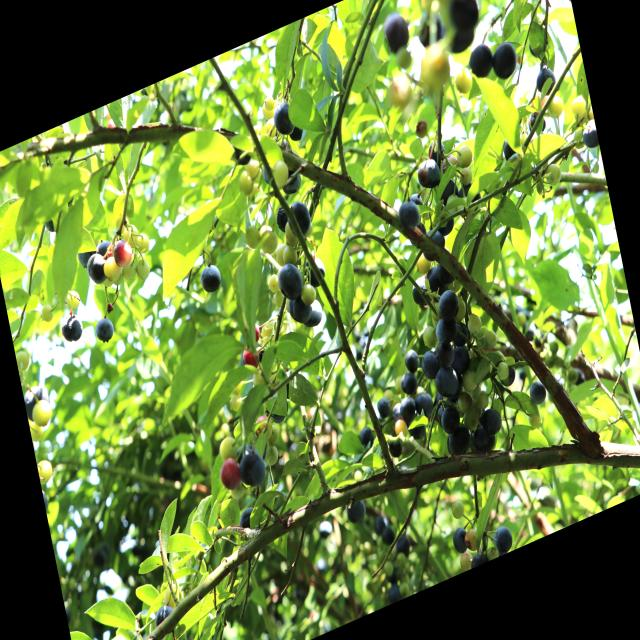blueberry: (414, 5, 448, 50), (282, 286, 318, 328), (488, 38, 520, 84), (273, 258, 305, 304), (238, 447, 269, 493), (380, 11, 411, 56), (442, 20, 478, 58), (22, 377, 52, 422), (418, 223, 449, 264), (432, 360, 462, 401), (445, 0, 480, 35), (454, 179, 483, 220), (269, 95, 296, 139), (397, 192, 424, 235), (466, 40, 495, 80), (57, 306, 86, 346), (285, 198, 313, 238), (470, 418, 499, 456), (445, 423, 475, 459), (299, 293, 328, 329), (301, 251, 327, 291), (415, 156, 442, 194), (434, 171, 461, 209), (432, 310, 460, 346), (84, 249, 109, 289), (435, 285, 461, 323), (430, 202, 456, 239), (434, 252, 458, 292), (532, 64, 558, 100), (423, 264, 447, 303), (198, 259, 224, 295), (93, 311, 117, 350), (409, 272, 434, 309), (479, 404, 504, 439), (491, 521, 515, 557), (433, 338, 458, 372), (279, 165, 304, 198), (344, 496, 368, 530), (420, 346, 442, 382), (405, 411, 429, 444), (439, 403, 462, 437), (578, 116, 599, 152), (412, 388, 434, 422), (238, 502, 260, 536), (526, 105, 549, 137), (449, 342, 472, 374), (497, 358, 519, 390), (448, 319, 472, 348), (527, 378, 549, 409), (500, 132, 522, 162), (426, 137, 449, 165), (408, 218, 429, 248), (450, 524, 469, 556), (398, 394, 418, 424), (393, 533, 414, 559), (402, 347, 420, 376), (400, 371, 417, 398), (358, 424, 375, 450), (96, 239, 114, 263), (389, 400, 405, 426), (375, 396, 391, 420), (388, 437, 404, 460), (373, 513, 389, 535), (470, 550, 488, 568), (381, 527, 396, 548)
blueberry-halfripe: (218, 455, 243, 493), (112, 236, 134, 269), (240, 342, 261, 370), (251, 321, 262, 343)
blueberry-unripe: (30, 396, 54, 432), (270, 157, 292, 192), (215, 434, 238, 464), (253, 411, 274, 443), (259, 227, 280, 258), (236, 168, 256, 200), (244, 220, 262, 254), (454, 142, 474, 172), (102, 256, 121, 284), (134, 255, 152, 283), (122, 222, 140, 249), (121, 258, 138, 286), (134, 230, 152, 256), (248, 179, 266, 205), (461, 367, 478, 394), (456, 388, 474, 413), (462, 405, 480, 430), (464, 526, 480, 554), (262, 442, 279, 468), (64, 288, 82, 312), (456, 549, 474, 573), (466, 310, 483, 335), (281, 244, 299, 267), (422, 324, 438, 349), (114, 212, 131, 235), (244, 157, 261, 180), (450, 497, 466, 521), (482, 328, 498, 351), (494, 359, 510, 381), (265, 423, 280, 446), (476, 388, 491, 411), (393, 416, 408, 438), (527, 408, 542, 430), (40, 303, 55, 324), (267, 272, 280, 295)
